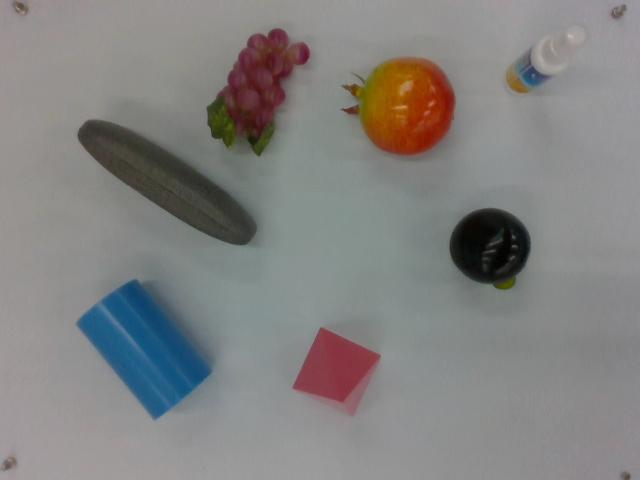cylinder: (74, 275, 214, 423)
detergent: (506, 21, 588, 101)
glassescase: (78, 114, 260, 249)
grape: (206, 24, 310, 158)
mangosteen: (450, 206, 534, 295)
pomegranate: (340, 54, 456, 159)
pyramid: (290, 322, 383, 422)
